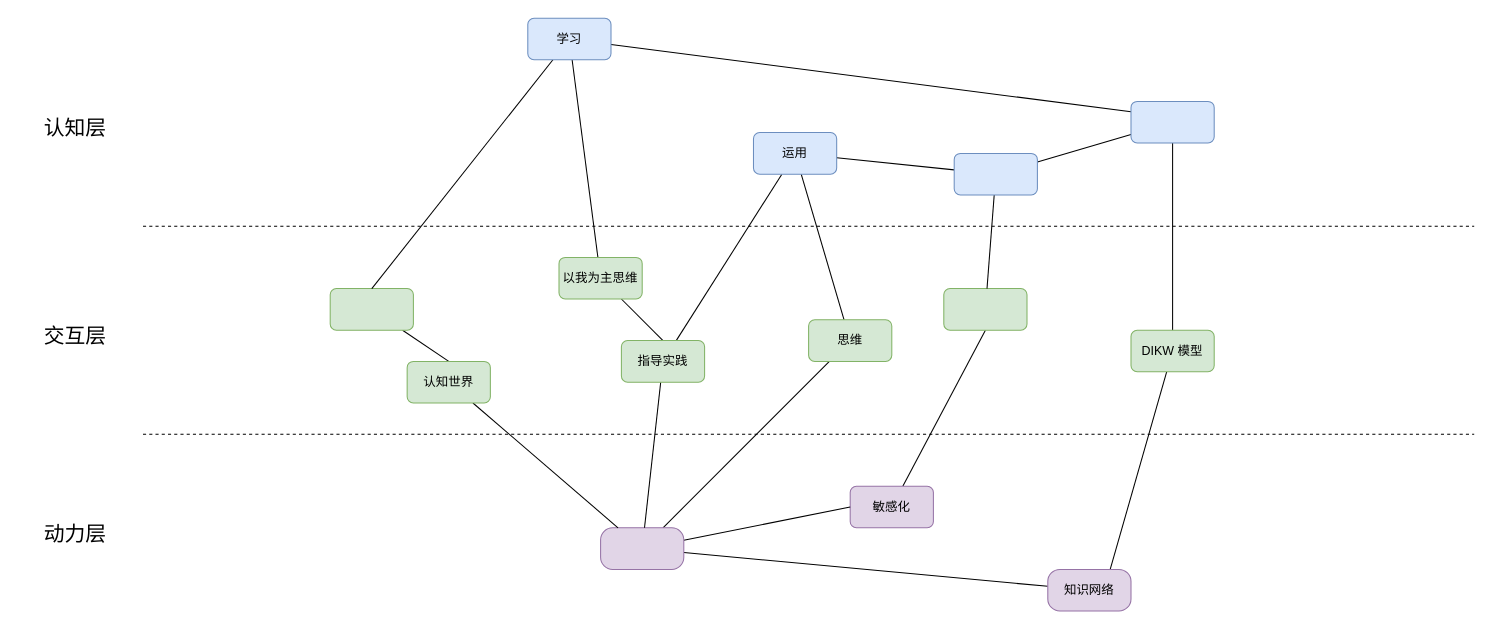
Image size: 1493x629. Some labels were removed from this diagram. The shapes that lost their labels are listed below. From the top down, each one's centre as x and y in pixels, then its label:
At point (1172, 121): "知识".
At point (995, 173): "记忆".
At point (371, 309): "学生思维".
At point (985, 309): "测试效应".
At point (642, 548): "图式".
